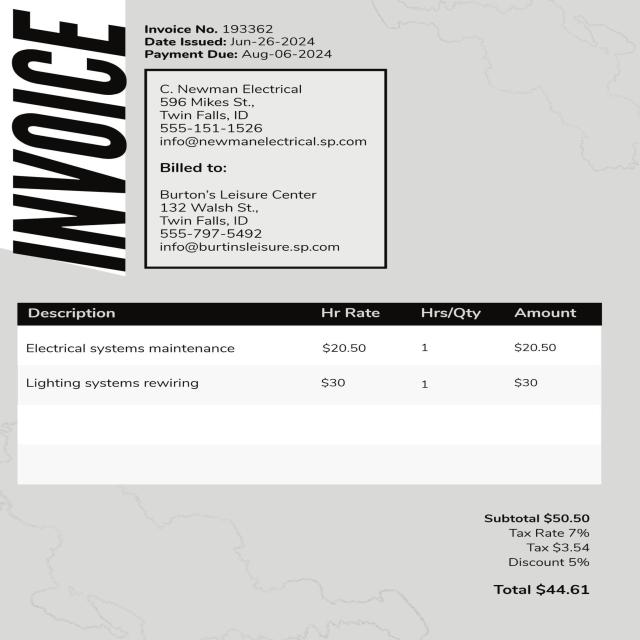paragraph: (7, 6, 131, 280), (150, 158, 350, 255), (156, 78, 380, 149), (466, 502, 608, 609), (138, 18, 346, 60)
table: (12, 300, 584, 399)
